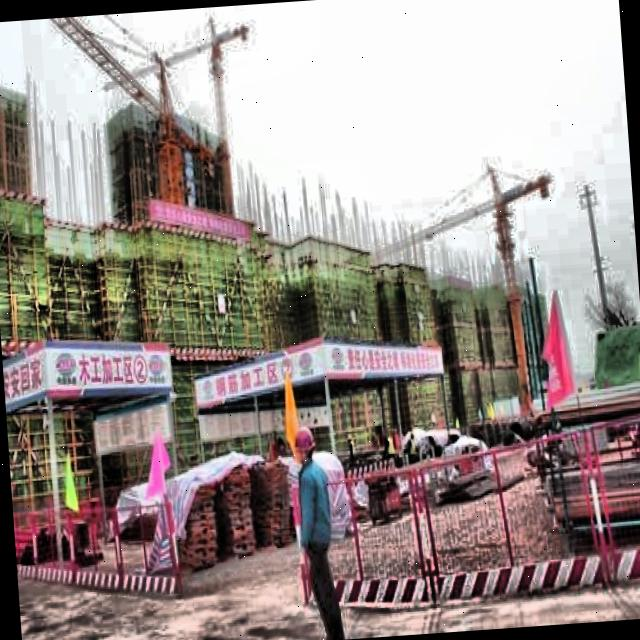helmet: (291, 422, 317, 466)
